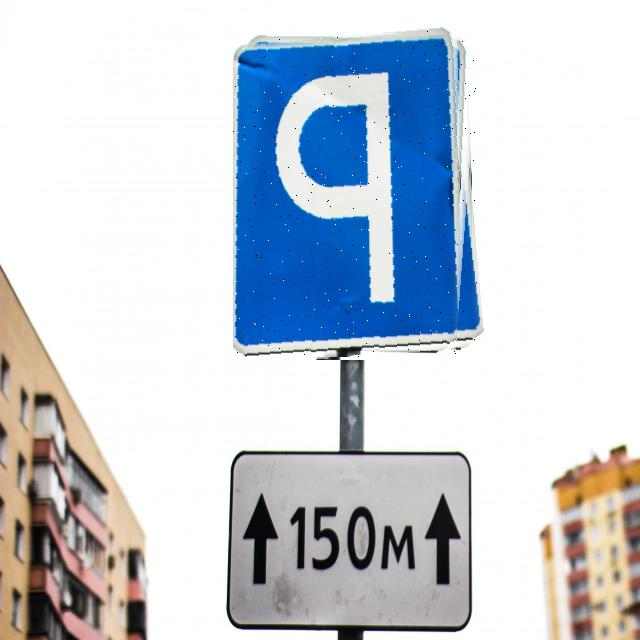parking: (233, 31, 479, 360)
